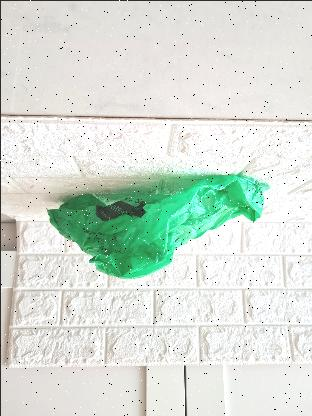Others: (44, 172, 266, 280)
